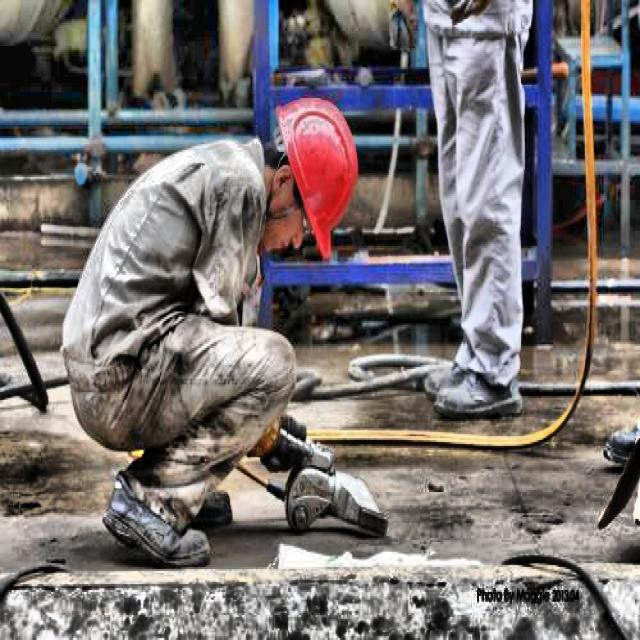helmet: (258, 90, 364, 260)
